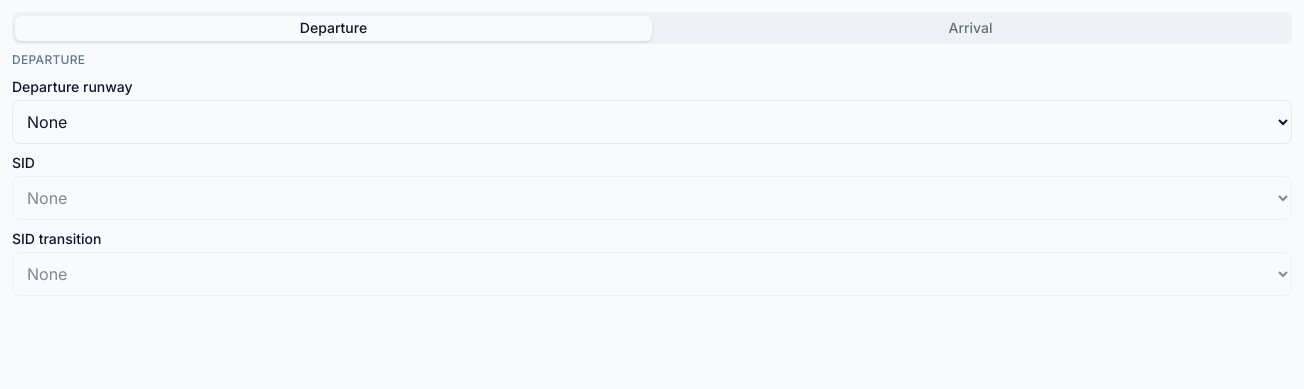
ProcedureSelector › compact (a phone) › splits Departure and Arrival into two tabs, Departure first
This screenshot has width=1304, height=389.
Check: the text "Departure runway" is shown, box [12,78,133,95]
Check: the text "Approach" is not shown
Click the tab "Arrival" at (970, 28), box [652,16,1289,40]
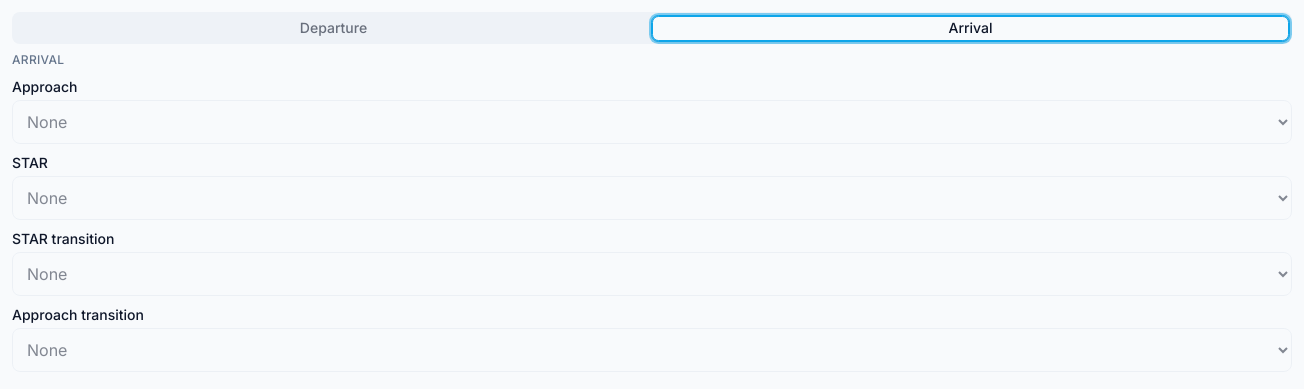
Check: the text "Approach" is shown, box [12,78,77,95]
Check: the text "Departure runway" is gone
